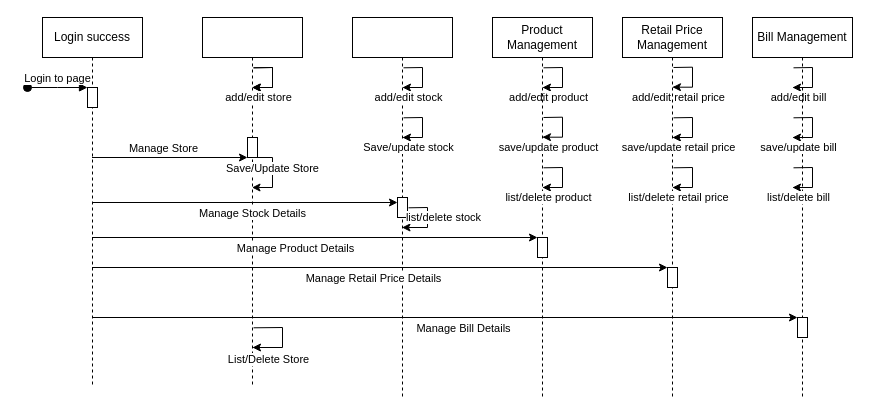
Some shapes in this 870 by 415 pixel diagram are drawn without their labels. Each missing label, with the box of its shape:
Stock Management: (352, 16, 452, 398)
Store Management: (202, 16, 302, 388)
